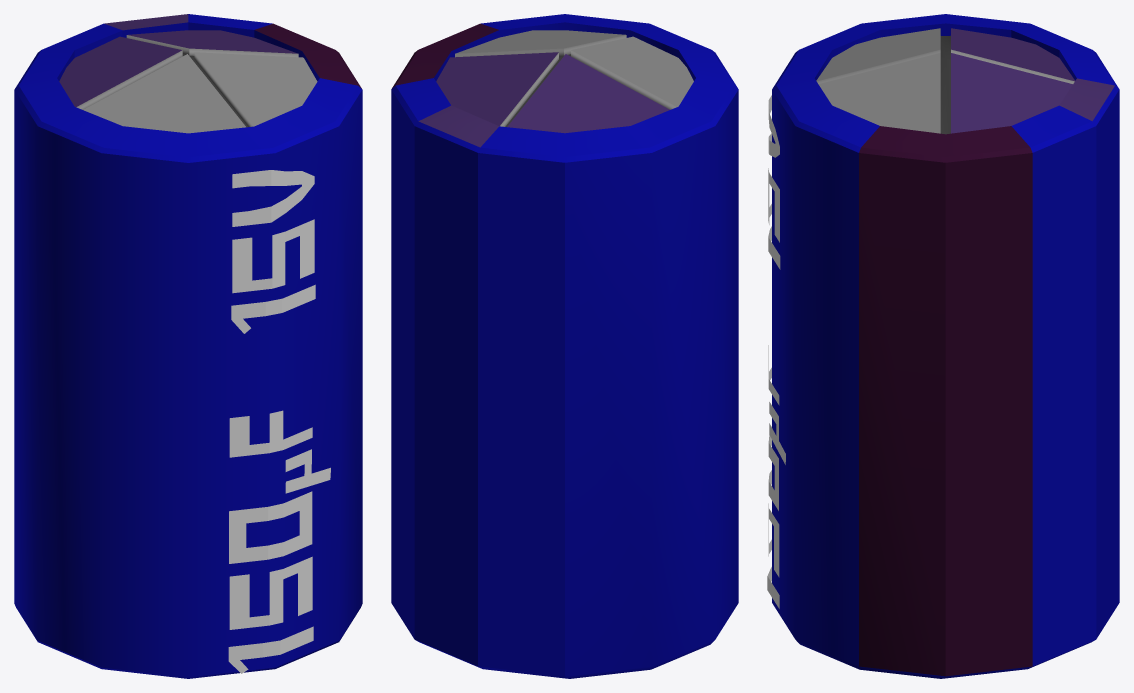
File: zepsuty_kondensator_niebieski.fbx
3 views of the same model, side by side, from view 1: azimuth 30°, elevation 25°; view 2: azimuth 150°, elevation 25°; view 3: azimuth 270°, elevation 25° (orthographic).
Parts seen in each view (by area): view 1: zepsuty_kondensator_niebieski; view 2: zepsuty_kondensator_niebieski; view 3: zepsuty_kondensator_niebieski.
Part boxes in pixels (x1,y1,x2,y2): zepsuty_kondensator_niebieski: (14, 14, 362, 678); zepsuty_kondensator_niebieski: (391, 14, 738, 678); zepsuty_kondensator_niebieski: (767, 14, 1119, 678).
Size of the model in its own units: 200 by 353 by 203.
